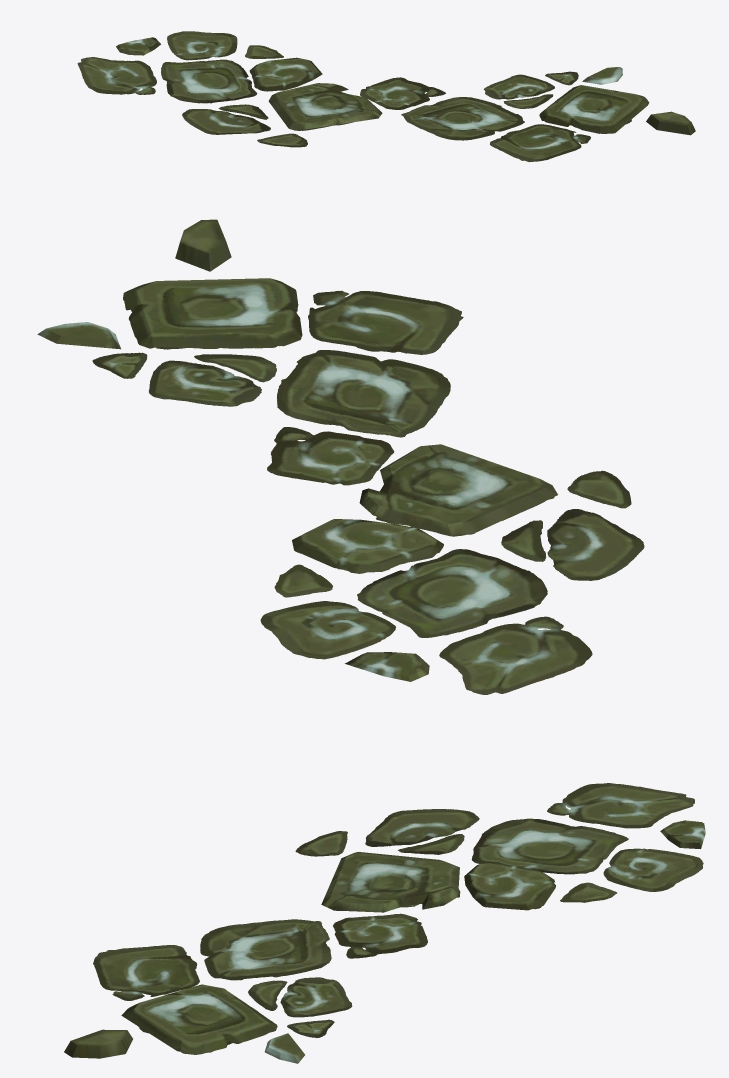
The model's file is pavers_corner_snow_01.fbx.
The picture shows the model from 3 angles, top to bottom: view 1: azimuth 30°, elevation 25°; view 2: azimuth 150°, elevation 25°; view 3: azimuth 270°, elevation 25°; orthographic projection. The views are drawn at different scales.
Parts seen in each view (by area): view 1: obj0.100; view 2: obj0.100; view 3: obj0.100.
Part boxes in pixels (x1=…): obj0.100: x1=77, y1=31, x2=695, y2=162; obj0.100: x1=37, y1=219, x2=644, y2=694; obj0.100: x1=64, y1=783, x2=705, y2=1063.
Bounding box in the file's own units: 10.26 × 0.1729 × 9.98.
